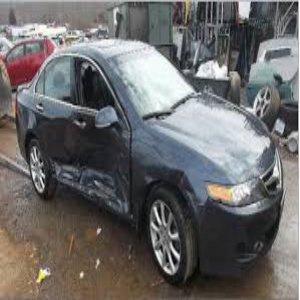door: (51, 153, 128, 211)
